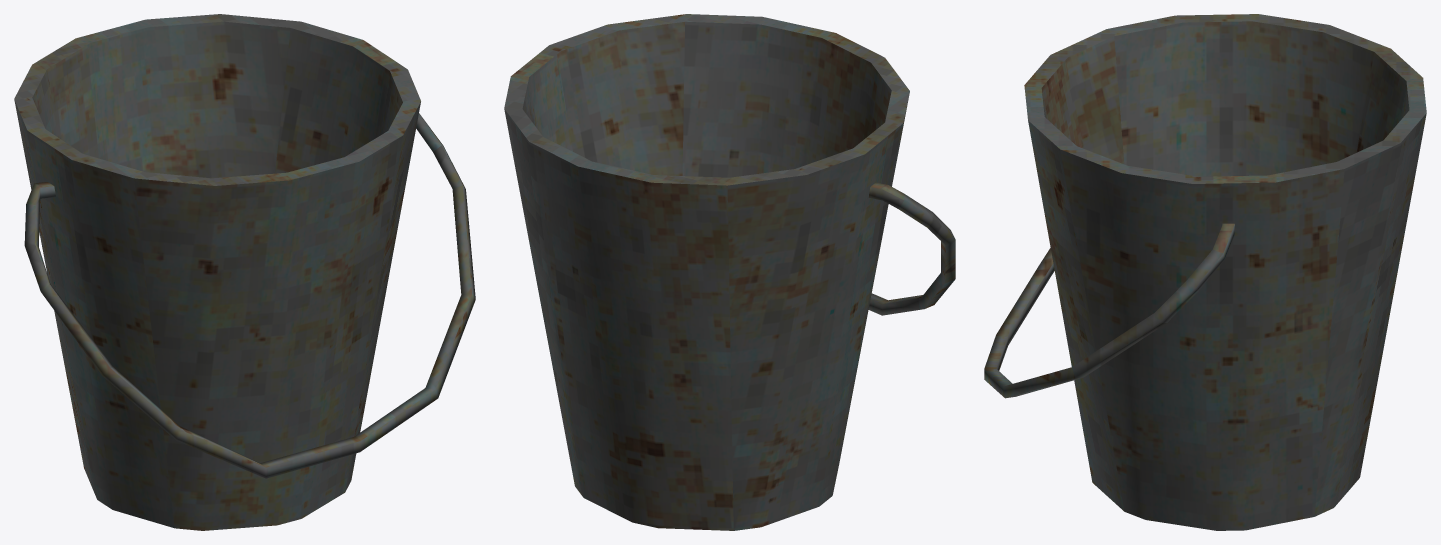
Rendered from _Bucket_1_LOD00.FBX.
3 renders of one model, left to right at view 1: azimuth 30°, elevation 25°; view 2: azimuth 150°, elevation 25°; view 3: azimuth 270°, elevation 25°, orthographic.
Visible parts, largest first — view 1: _Bucket_1_LOD00; view 2: _Bucket_1_LOD00; view 3: _Bucket_1_LOD00.
Part boxes in pixels (x1,y1,x2,y2): _Bucket_1_LOD00: (14, 14, 475, 530); _Bucket_1_LOD00: (504, 14, 955, 530); _Bucket_1_LOD00: (984, 14, 1426, 530).
Size of the model in its own units: 29.11 by 24.33 by 26.02.
Materials: 1 (1 with a texture image).
